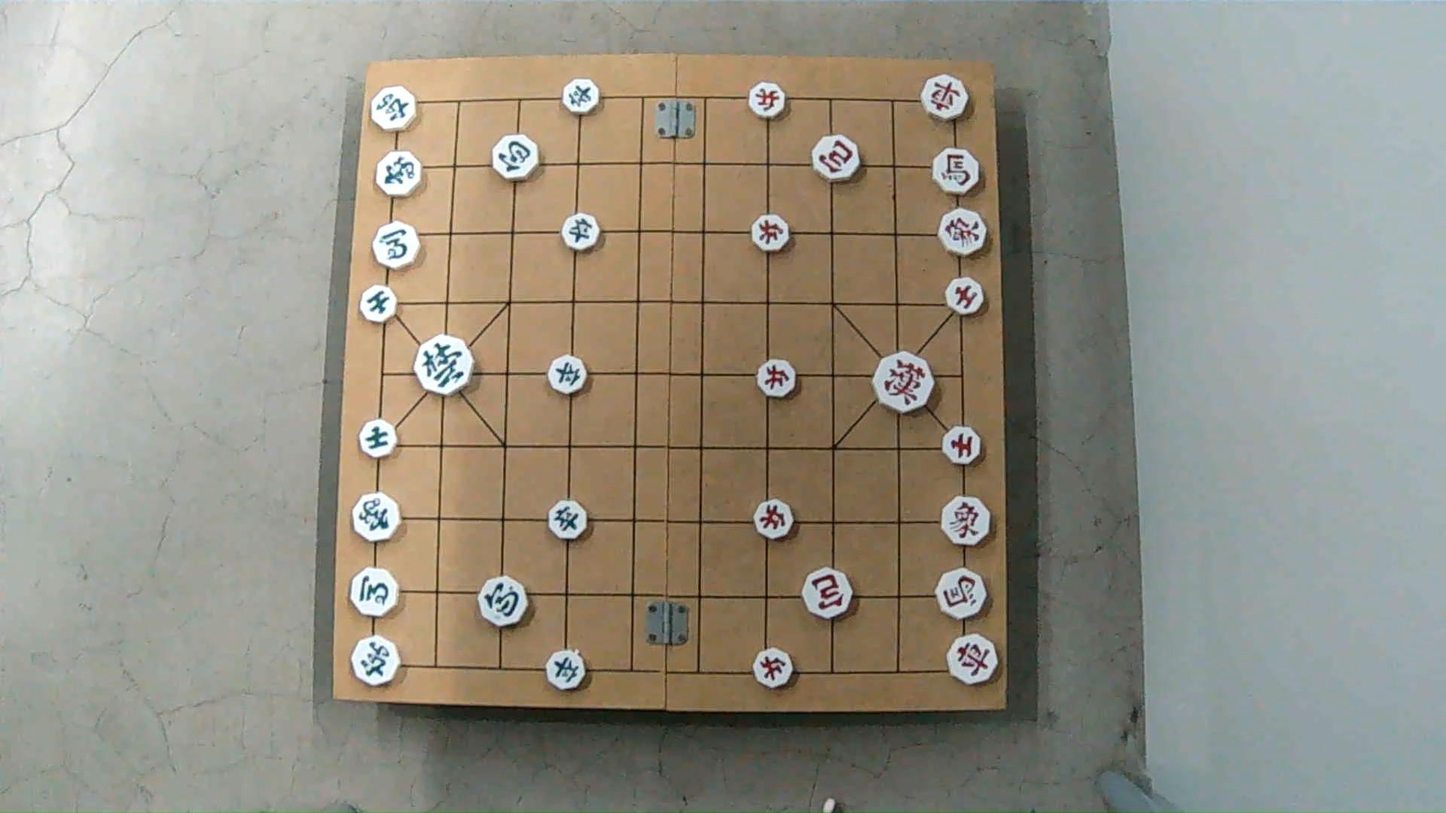cha_green: (352, 639, 404, 687), (371, 87, 420, 130)
cha_red: (946, 638, 1002, 684), (920, 78, 972, 119)
jol_green: (545, 653, 590, 690), (545, 503, 590, 538), (548, 358, 591, 393), (560, 217, 602, 251), (562, 81, 602, 112)
jol_red: (756, 360, 799, 395), (754, 503, 796, 538), (751, 649, 793, 683), (750, 218, 792, 251), (744, 84, 786, 117)
ma_green: (350, 569, 403, 616), (372, 224, 424, 265)
ma_red: (935, 569, 990, 620), (931, 144, 980, 193)
po_green: (490, 132, 541, 181), (474, 577, 529, 622)
po_red: (801, 573, 853, 617), (811, 137, 864, 179)
sa_green: (362, 288, 402, 324), (361, 423, 401, 458)
sa_red: (941, 425, 984, 464), (942, 279, 987, 314)
sang_green: (349, 492, 404, 542), (375, 153, 425, 196)
sang_red: (939, 497, 992, 542), (935, 210, 987, 254)
wang_green: (417, 340, 478, 394)
wang_red: (871, 355, 934, 410)
